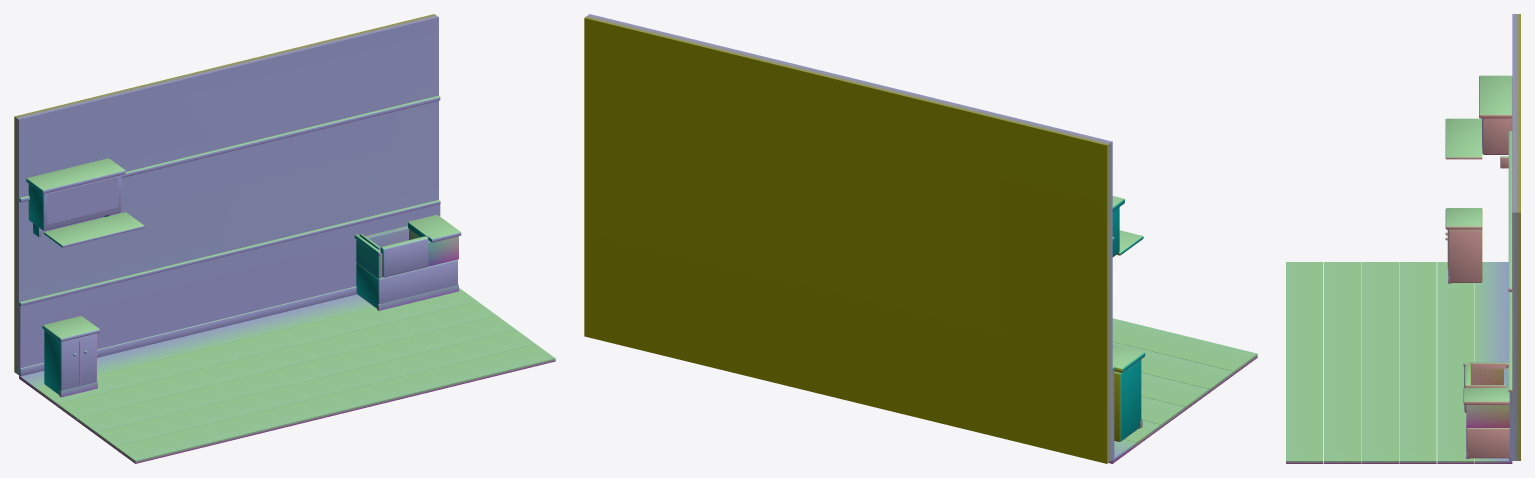
File: kitchen_arch.glb
3 views of the same model, side by side, from view 1: azimuth 30°, elevation 25°; view 2: azimuth 150°, elevation 25°; view 3: azimuth 270°, elevation 25° (orthographic). The views are drawn at different scales.
Visible parts, largest first — view 1: kitchen_arch; view 2: kitchen_arch; view 3: kitchen_arch.
Part boxes in pixels (x1,y1,x2,y2): kitchen_arch: (14,14,555,463); kitchen_arch: (584,14,1257,463); kitchen_arch: (1286,14,1520,463).
Size of the model in its own units: 5.5 by 3.24 by 2.75.
